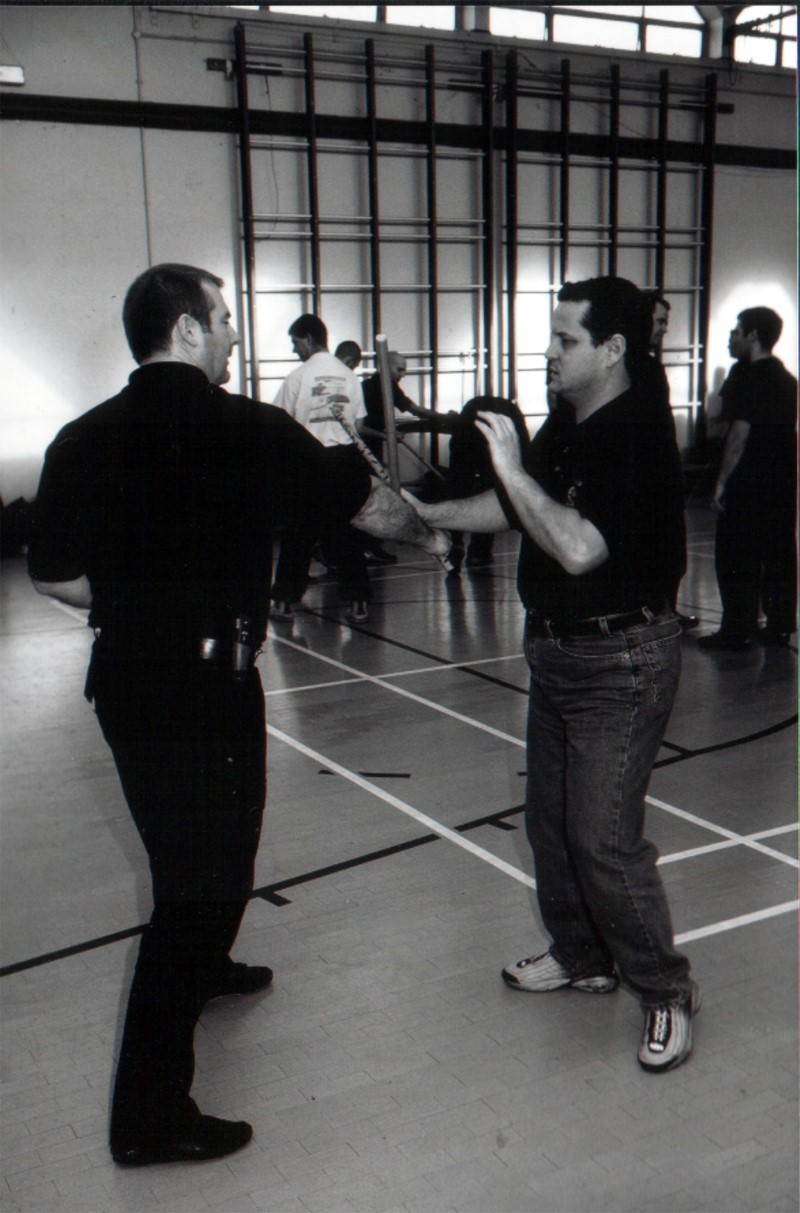baston_e: (331, 415, 454, 560), (373, 345, 402, 492)
baston_v: (435, 551, 458, 580), (372, 331, 389, 351), (328, 401, 346, 419)
